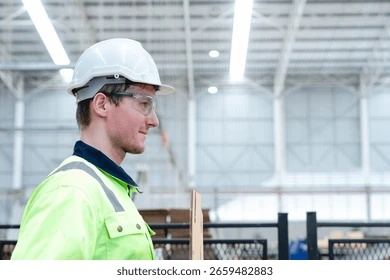safety_goggles: (60, 85, 179, 115)
